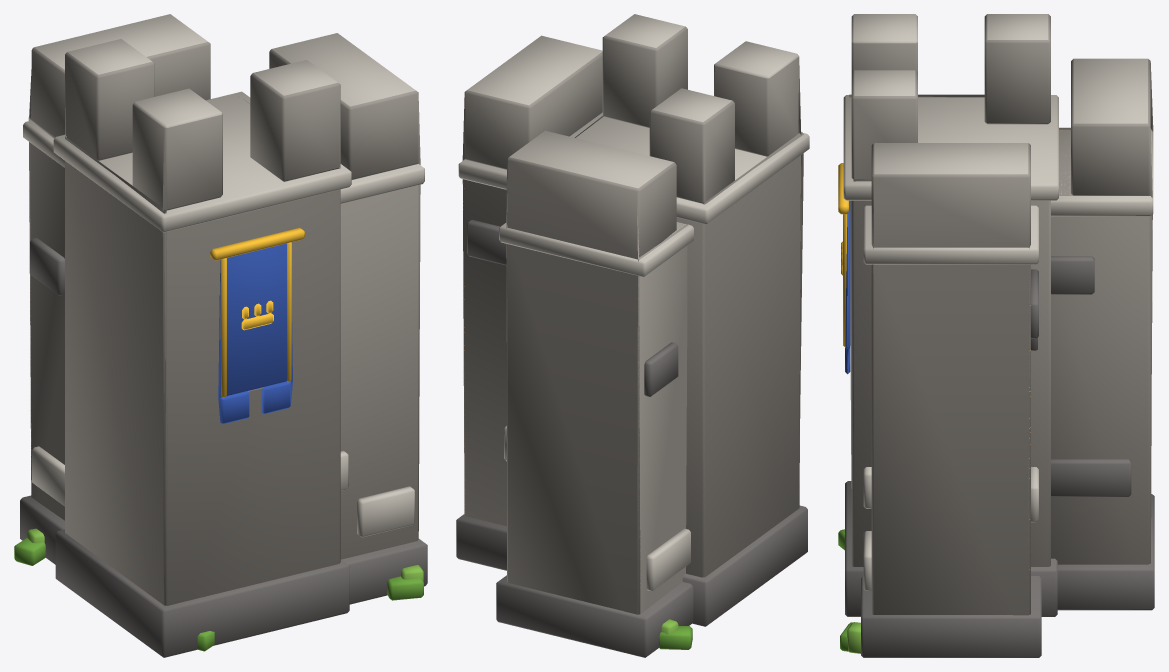
The model's file is B_MedCastleWallCorner.fbx.
3 renders of one model, left to right at view 1: azimuth 30°, elevation 25°; view 2: azimuth 150°, elevation 25°; view 3: azimuth 270°, elevation 25°, orthographic. The views are drawn at different scales.
Visible parts, largest first — view 1: M_CastleWallCorner; view 2: M_CastleWallCorner; view 3: M_CastleWallCorner.
Boxes of the visible parts, x1=… form: M_CastleWallCorner: x1=14, y1=14, x2=427, y2=657; M_CastleWallCorner: x1=456, y1=14, x2=809, y2=657; M_CastleWallCorner: x1=838, y1=14, x2=1154, y2=657.
Bounding box in the file's own units: 2.43 × 4.3 × 2.38.
1 material, 1 textured.
